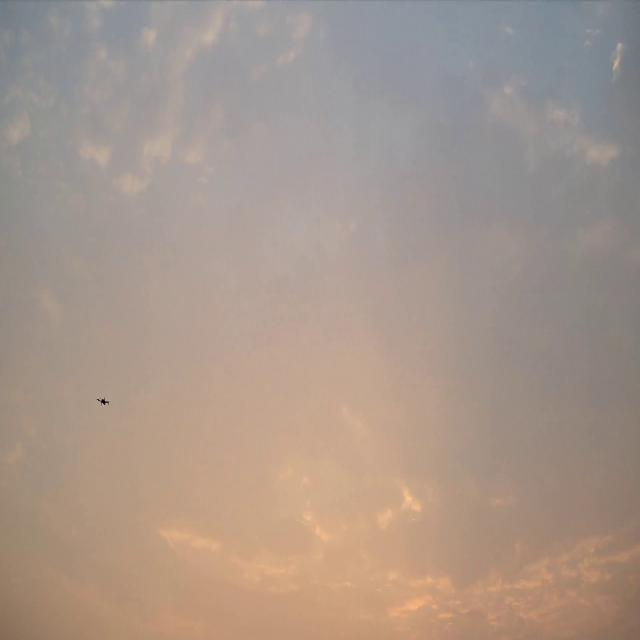drone: (95, 396, 111, 406)
